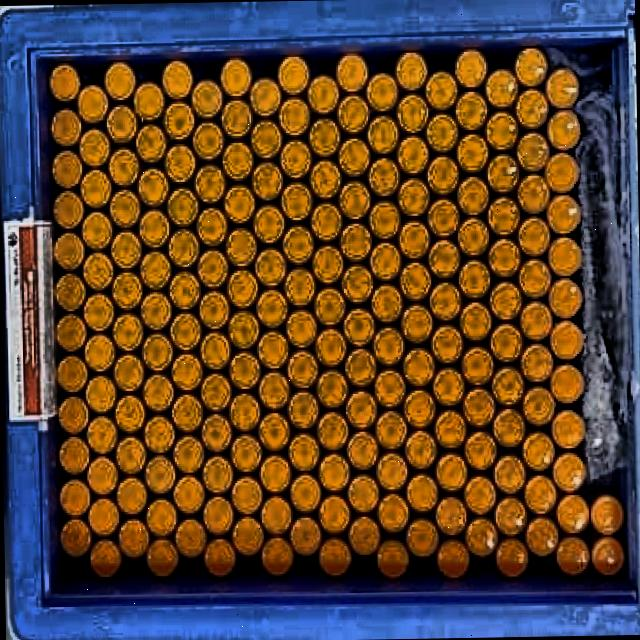vial: (544, 69, 580, 108), (426, 154, 460, 195), (367, 155, 400, 197), (553, 452, 587, 492), (518, 343, 553, 381), (317, 452, 351, 491), (548, 280, 582, 319), (547, 236, 581, 275), (166, 186, 199, 226), (465, 517, 498, 557), (493, 453, 526, 493), (434, 408, 467, 448), (367, 199, 400, 239), (513, 46, 546, 86), (193, 163, 225, 204), (495, 537, 527, 578), (519, 299, 551, 340), (317, 410, 349, 451), (545, 152, 579, 190), (484, 68, 518, 106), (405, 517, 438, 556), (364, 72, 397, 111), (396, 136, 429, 175), (137, 167, 169, 207), (288, 431, 320, 471), (318, 494, 350, 534), (551, 364, 583, 404), (550, 320, 582, 360), (517, 216, 549, 256), (336, 52, 367, 93), (376, 495, 410, 532), (554, 494, 588, 531), (260, 536, 293, 574), (437, 540, 470, 578), (525, 517, 558, 555), (524, 474, 557, 512), (460, 347, 493, 385), (309, 203, 342, 241), (396, 178, 429, 216), (276, 56, 309, 94), (547, 195, 580, 233), (139, 251, 171, 290), (140, 291, 172, 330), (551, 410, 583, 449), (487, 196, 519, 235), (454, 48, 486, 87), (251, 161, 282, 201), (191, 123, 225, 159), (369, 243, 402, 280), (57, 396, 89, 434), (200, 373, 232, 411), (175, 520, 207, 558), (260, 496, 292, 534), (376, 540, 408, 578), (591, 494, 623, 532), (462, 388, 494, 426), (491, 365, 523, 403), (459, 301, 491, 339), (402, 348, 434, 386), (255, 290, 287, 328), (399, 263, 431, 301), (222, 142, 254, 180), (308, 118, 340, 156), (308, 161, 340, 199), (457, 177, 489, 215), (548, 111, 580, 149), (487, 154, 519, 192), (79, 128, 110, 167), (191, 78, 222, 117), (142, 374, 173, 413), (59, 436, 90, 475), (376, 451, 407, 490), (406, 473, 437, 512), (465, 431, 496, 470), (523, 432, 554, 471), (493, 409, 524, 448), (432, 367, 463, 406), (490, 281, 521, 320), (459, 259, 490, 298), (341, 264, 372, 303), (282, 226, 313, 265), (457, 133, 488, 172), (426, 70, 457, 109), (136, 123, 166, 163), (233, 515, 263, 555), (60, 518, 90, 558), (320, 537, 350, 577), (228, 354, 261, 390), (252, 206, 285, 242), (485, 113, 518, 149), (515, 91, 548, 127), (76, 86, 108, 123), (51, 150, 83, 187), (167, 230, 199, 267), (168, 271, 200, 308), (86, 458, 118, 495), (146, 499, 178, 536), (259, 456, 291, 493), (518, 261, 550, 298), (488, 239, 520, 276), (226, 270, 258, 307), (338, 181, 370, 218), (162, 60, 193, 98), (82, 252, 113, 290), (496, 496, 527, 534), (430, 282, 461, 320), (490, 325, 521, 363), (221, 101, 252, 139), (250, 120, 281, 158), (279, 139, 310, 177), (339, 138, 370, 176), (395, 52, 426, 90), (427, 113, 458, 151), (56, 313, 86, 352), (290, 474, 320, 513), (523, 386, 553, 425), (225, 228, 255, 267), (281, 181, 311, 220), (220, 57, 250, 96), (592, 539, 625, 574), (105, 106, 137, 142), (109, 191, 141, 227), (82, 294, 114, 330), (111, 314, 143, 350), (173, 477, 205, 513), (258, 373, 290, 409), (400, 306, 432, 342), (256, 332, 288, 368), (340, 223, 372, 259), (50, 108, 81, 145), (79, 170, 110, 207), (53, 232, 84, 269), (141, 334, 172, 371), (114, 396, 145, 433), (198, 291, 229, 328), (200, 333, 231, 370), (144, 456, 175, 493), (290, 517, 321, 554), (348, 516, 379, 553), (435, 498, 466, 535), (404, 390, 435, 427), (342, 308, 373, 345), (278, 97, 309, 134), (396, 94, 427, 131), (518, 176, 549, 213), (49, 63, 79, 101), (134, 81, 164, 119), (143, 415, 173, 453), (347, 431, 377, 469), (376, 410, 406, 448), (464, 475, 494, 513), (259, 413, 289, 451), (287, 349, 317, 387), (346, 391, 376, 429), (284, 269, 314, 307), (255, 248, 285, 286), (399, 220, 429, 258), (459, 218, 488, 257), (308, 75, 337, 114), (312, 290, 345, 324), (103, 63, 134, 99), (81, 213, 112, 249), (56, 355, 87, 391), (171, 354, 202, 390), (230, 436, 261, 472), (201, 414, 232, 450), (172, 395, 203, 431), (202, 497, 233, 533), (203, 540, 234, 576), (557, 537, 588, 573), (431, 326, 462, 362), (317, 370, 348, 406), (373, 370, 404, 406), (371, 285, 402, 321), (311, 246, 342, 282), (337, 96, 368, 132), (456, 92, 487, 128), (109, 148, 139, 185), (53, 192, 83, 229), (111, 232, 141, 269), (139, 209, 169, 246), (112, 272, 142, 309), (85, 375, 115, 412), (86, 416, 116, 453), (197, 250, 227, 287), (117, 477, 147, 514), (232, 476, 262, 513), (288, 392, 318, 429), (285, 310, 315, 347), (228, 311, 258, 348), (429, 240, 459, 277), (428, 199, 458, 236), (166, 144, 195, 182), (230, 393, 259, 431), (119, 519, 148, 557), (224, 184, 253, 222), (250, 78, 279, 116), (517, 134, 546, 172), (83, 336, 115, 370), (55, 273, 85, 309), (196, 209, 226, 245), (170, 313, 200, 349), (147, 540, 177, 576), (88, 499, 118, 535), (60, 480, 90, 516), (373, 328, 403, 364), (348, 475, 377, 512), (436, 452, 465, 489), (173, 437, 203, 472), (202, 457, 232, 492), (90, 541, 120, 576), (405, 432, 435, 467), (345, 351, 375, 386), (315, 330, 345, 365), (114, 354, 143, 390), (116, 436, 145, 472), (368, 117, 397, 153), (166, 101, 194, 138)
